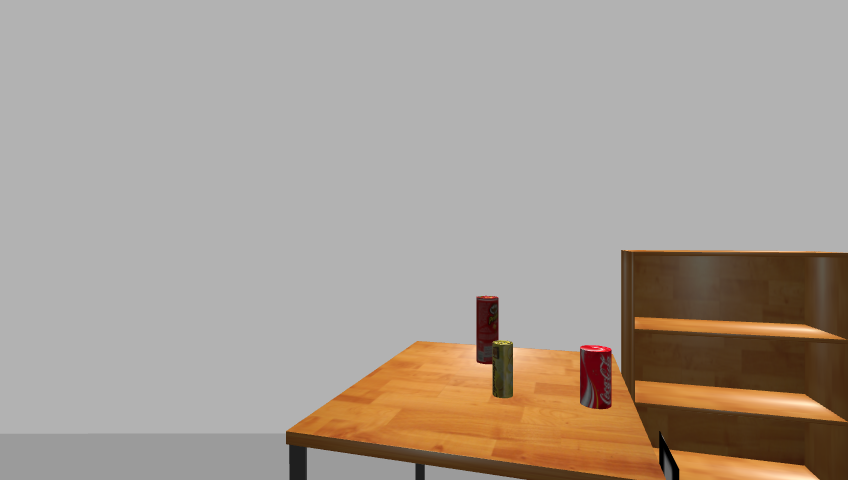aruco marker: (654, 433, 682, 480)
biscuits pack: (493, 340, 515, 400)
bookshelf: (614, 249, 848, 480)
coke can: (578, 346, 613, 410)
dinner table: (280, 340, 663, 480)
pringles can: (473, 295, 501, 367)
